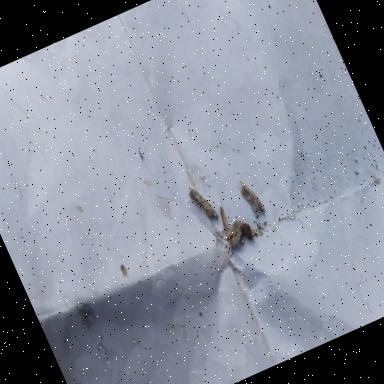pbw: (214, 201, 252, 250), (186, 180, 218, 224), (236, 176, 266, 218)
